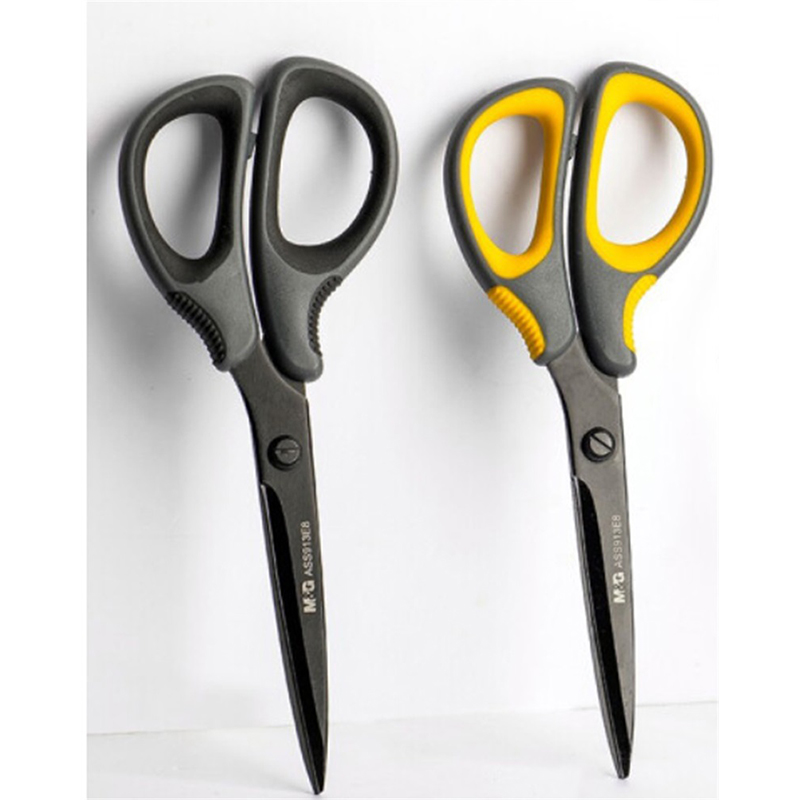scissors: (110, 54, 425, 800), (431, 59, 716, 785)
